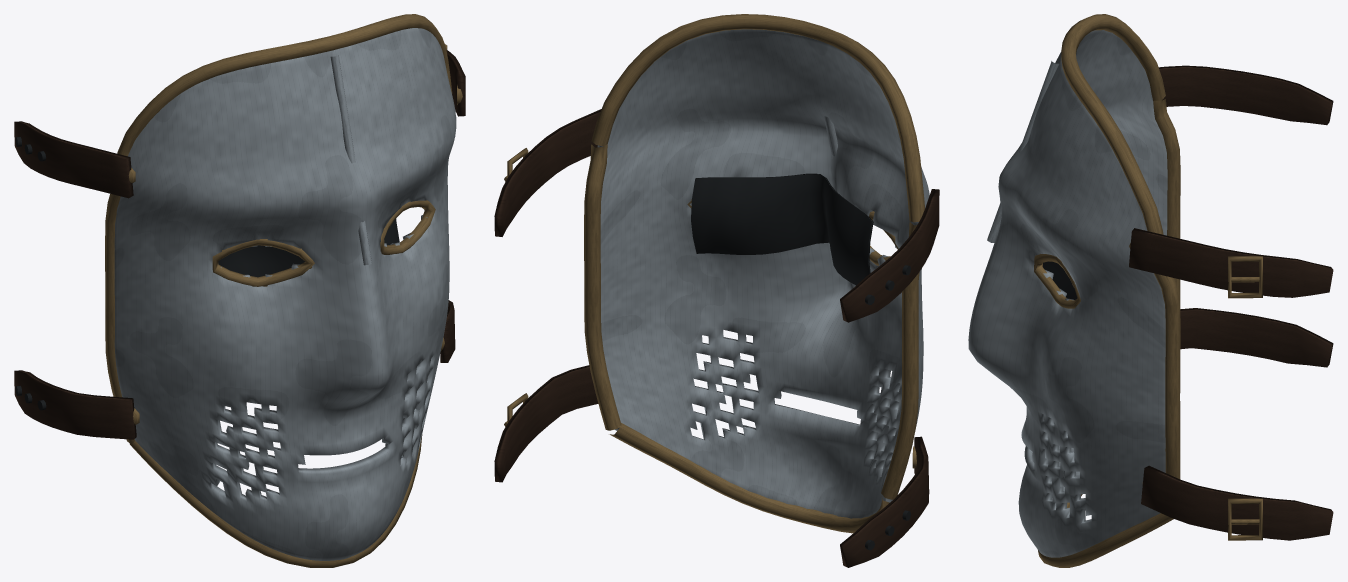
The picture shows the model from 3 angles, left to right: view 1: azimuth 30°, elevation 25°; view 2: azimuth 150°, elevation 25°; view 3: azimuth 270°, elevation 25°; orthographic projection. The views are drawn at different scales.
Parts seen in each view (by area): view 1: hammered plate, aged alloy edge, oiled strap leather, recess and lining; view 2: hammered plate, aged alloy edge, oiled strap leather, recess and lining; view 3: hammered plate, oiled strap leather, aged alloy edge, recess and lining.
Boxes of the visible parts, <box> form: hammered plate: <box>114,28,456,560</box>; aged alloy edge: <box>105,14,462,567</box>; oiled strap leather: <box>14,50,465,439</box>; recess and lining: <box>15,136,399,410</box>; hammered plate: <box>597,29,929,518</box>; aged alloy edge: <box>504,14,924,533</box>; oiled strap leather: <box>494,109,939,567</box>; recess and lining: <box>691,173,910,550</box>; hammered plate: <box>968,30,1167,557</box>; oiled strap leather: <box>1129,65,1333,540</box>; aged alloy edge: <box>1034,14,1262,567</box>; recess and lining: <box>1043,261,1077,300</box>.
Bounding box in the file's own units: 0.1782 × 0.2195 × 0.1434.
4 materials, 3 textured.
